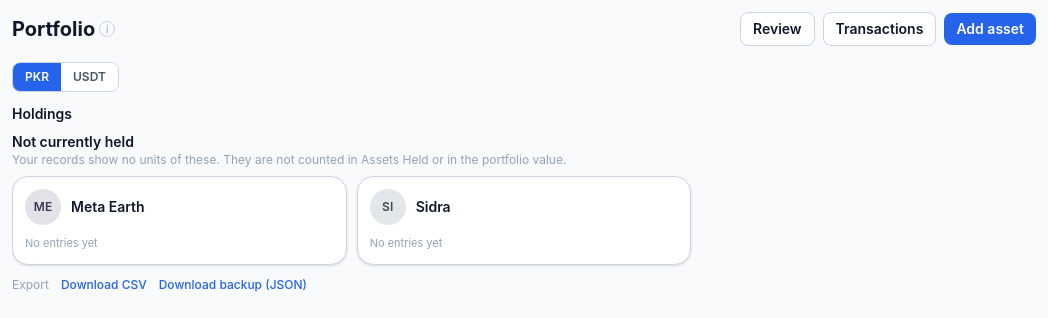
Test: All transactions › a token name opens that token
Click the button "Transactions": (880,29) [823,12,936,46]
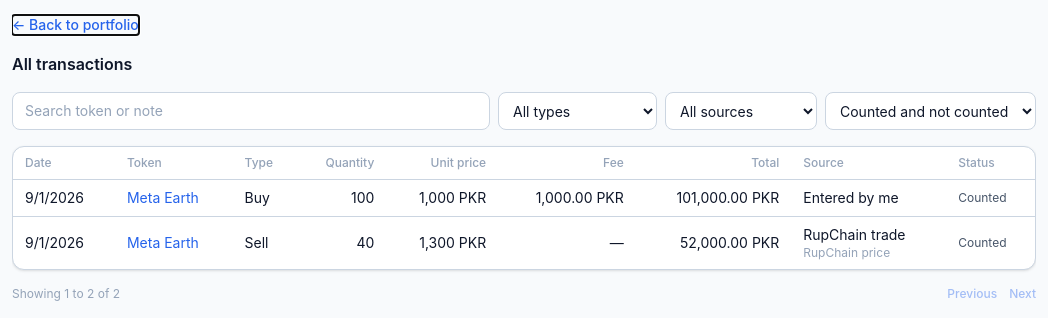
Click the button "Meta Earth" next to "Buy": (163,198) [127,188,199,208]
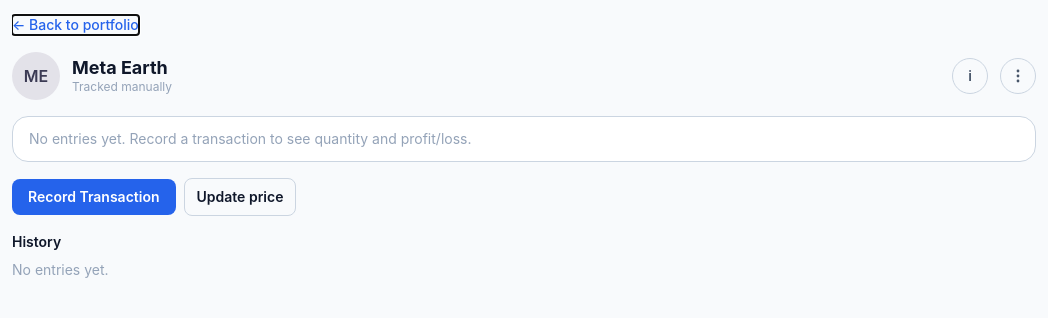
Expected: the heading "Meta Earth" is shown, [72,57,168,78]
Expected: the heading "transactions" is gone
